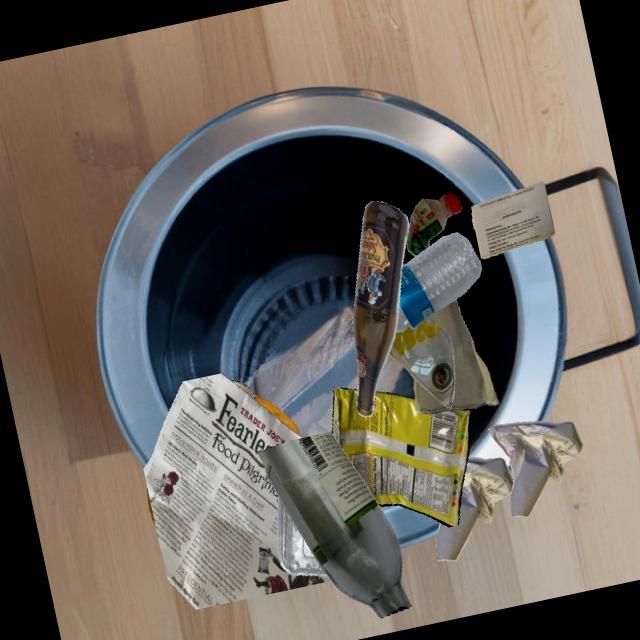biowaste: (254, 395, 301, 437)
cardboard: (413, 298, 499, 414)
glass: (257, 431, 411, 617), (352, 201, 408, 416), (388, 316, 454, 407)
paper: (143, 373, 331, 609), (488, 420, 583, 516), (435, 456, 513, 560), (471, 181, 554, 258)
plastic: (395, 232, 481, 331), (277, 496, 328, 576), (405, 192, 461, 256)
trash: (332, 387, 470, 527), (230, 379, 254, 399)
